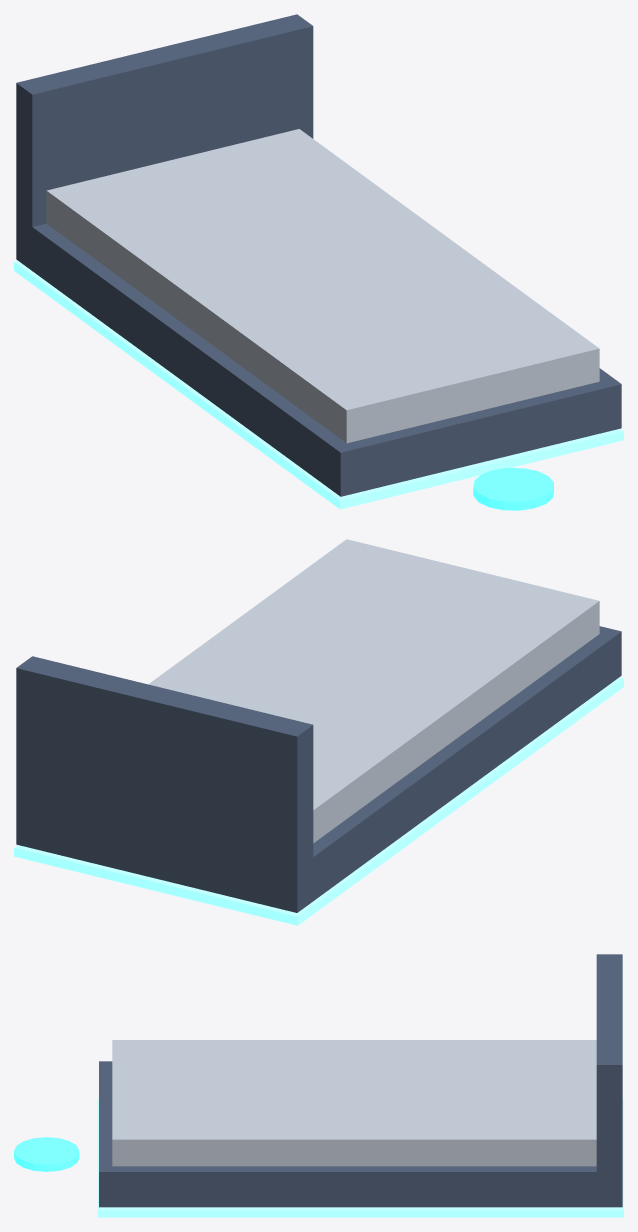
File: mod_cama.fbx
The picture shows the model from 3 angles, top to bottom: view 1: azimuth 30°, elevation 25°; view 2: azimuth 150°, elevation 25°; view 3: azimuth 270°, elevation 25°; orthographic projection. The views are drawn at different scales.
Parts seen in each view (by area): view 1: Cama, Cama_Neon, Cama_Marca; view 2: Cama, Cama_Neon; view 3: Cama, Cama_Neon, Cama_Marca.
Boxes of the visible parts, bbox=[...] form: Cama: bbox=[16, 14, 621, 496]; Cama_Neon: bbox=[14, 261, 623, 509]; Cama_Marca: bbox=[473, 468, 553, 510]; Cama: bbox=[16, 539, 621, 912]; Cama_Neon: bbox=[14, 677, 623, 925]; Cama: bbox=[99, 954, 622, 1207]; Cama_Neon: bbox=[97, 1098, 623, 1217]; Cama_Marca: bbox=[14, 1137, 79, 1171].
Bounding box in the file's own units: 0.5656 × 0.3892 × 1.3.
